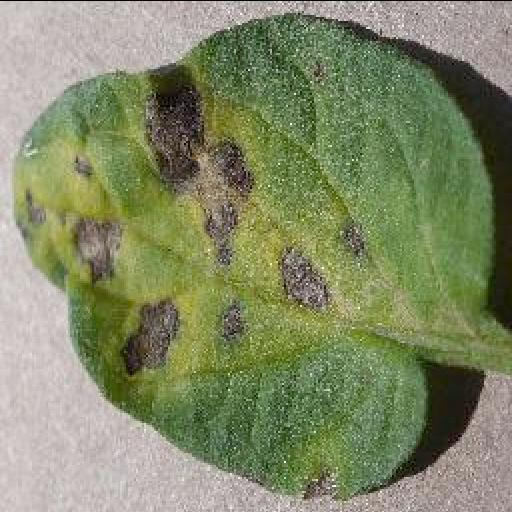disease_tomato: (16, 10, 496, 496)
